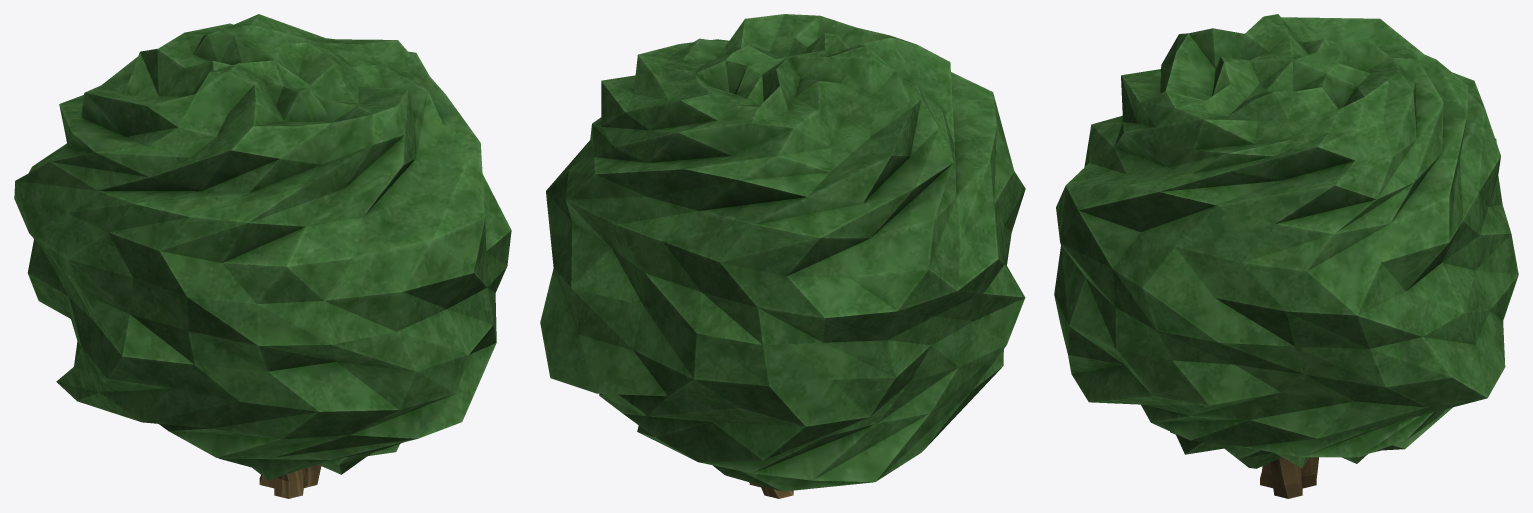
Rendered from aMGUklRjpyo.glb.
3 renders of one model, left to right at view 1: azimuth 30°, elevation 25°; view 2: azimuth 150°, elevation 25°; view 3: azimuth 270°, elevation 25°, orthographic. The views are drawn at different scales.
Visible parts, largest first — view 1: Shrub_mesh; view 2: Shrub_mesh; view 3: Shrub_mesh.
Boxes of the visible parts, x1=… form: Shrub_mesh: x1=14, y1=14, x2=511, y2=498; Shrub_mesh: x1=540, y1=14, x2=1025, y2=498; Shrub_mesh: x1=1054, y1=14, x2=1518, y2=498.
Bounding box in the file's own units: 0.9812 × 1 × 0.9707.
Materials: 1 (1 with a texture image).
